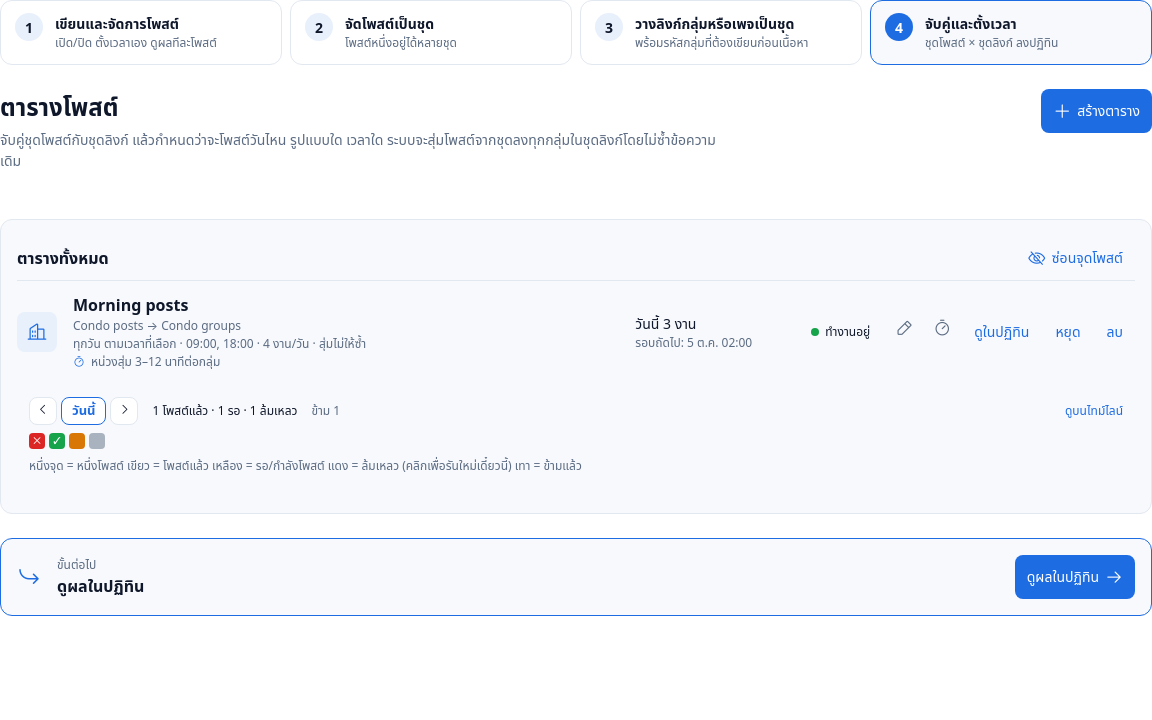
Scenario: SchedulesPageComponent › the squares of the posts › opens the post of a red square, where it can be run again right now
The image size is (1152, 720).
What coordinates should you click on to do the following:
click the 2nd list item with class "dot"
I would click on:
 (37, 441)
Its box is x1=29 y1=433 x2=45 y2=449.
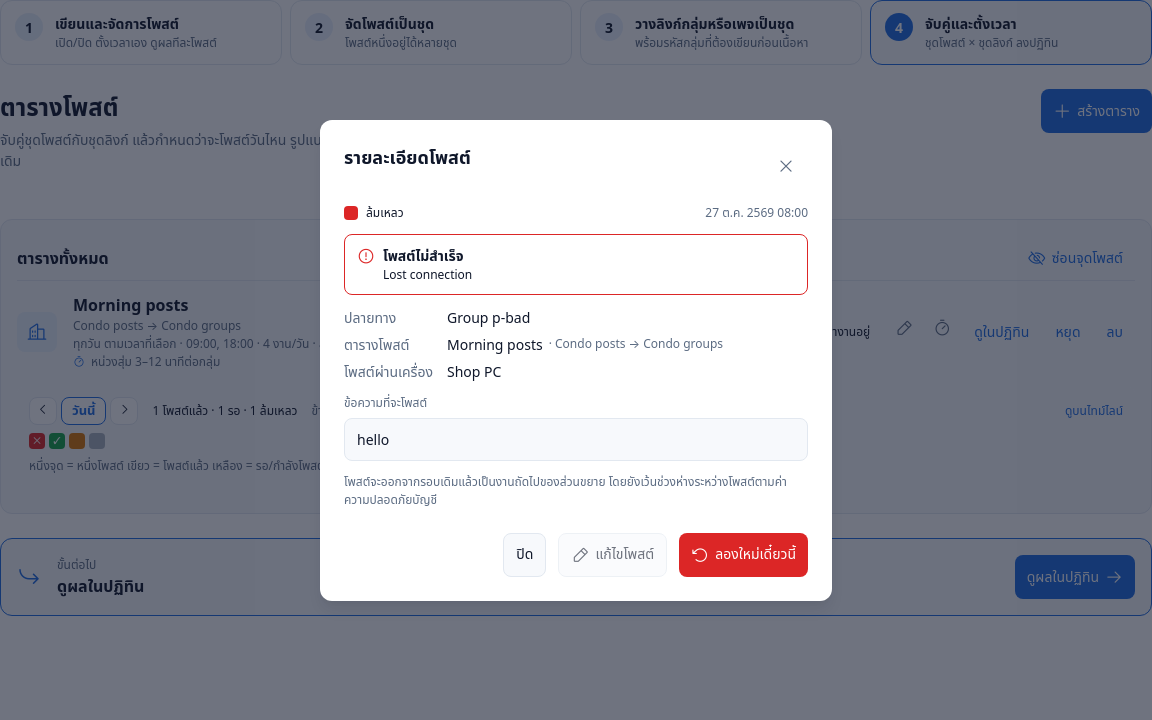
Expected: the button with test id "pd-run" reads "ลองใหม่เดี๋ยวนี้"
Expected: the button with test id "pd-run" is enabled
What coordinates should you click on to do the following:
click the button with test id "pd-run"
I would click on:
 (744, 554)
Its box is x1=679 y1=532 x2=808 y2=576.
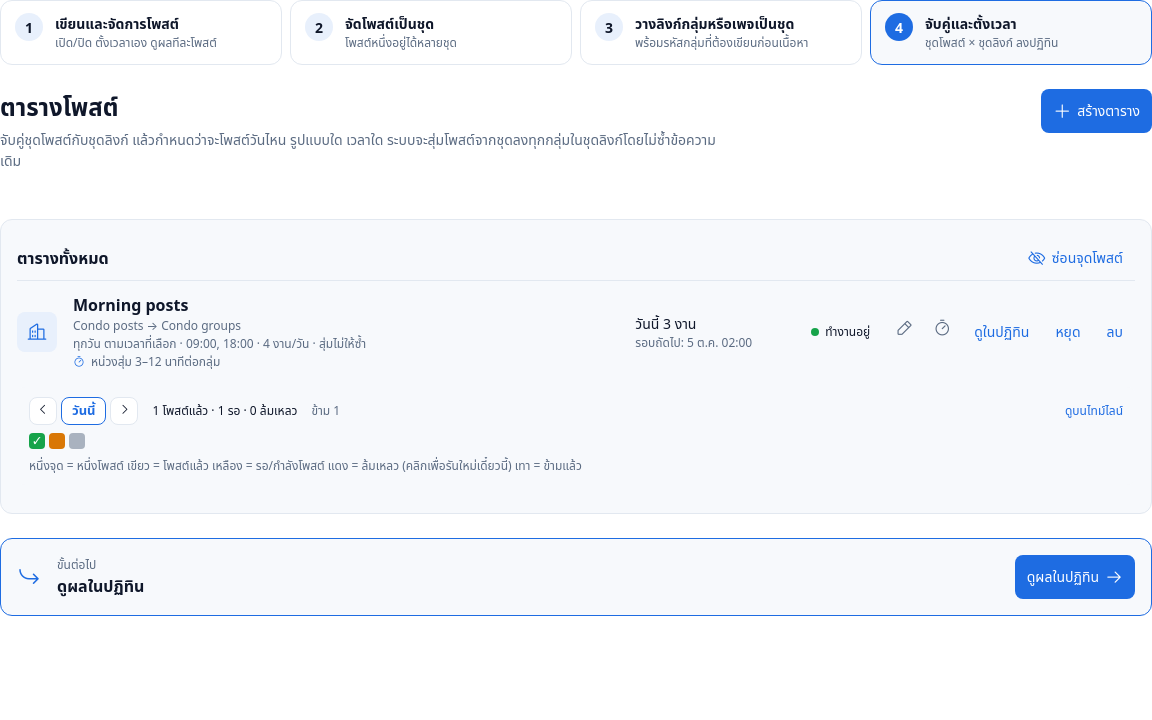
Expected: the dialog with class "su-modal-panel" is gone
